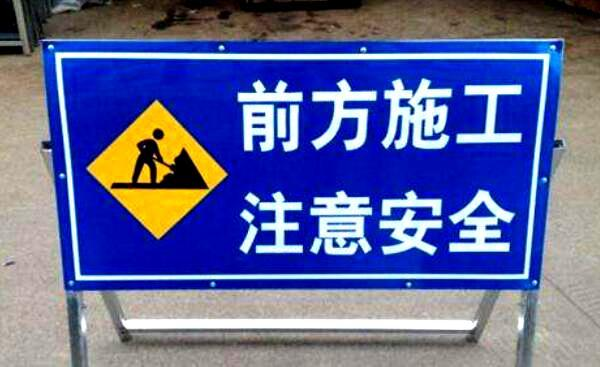sign: (51, 46, 549, 289)
